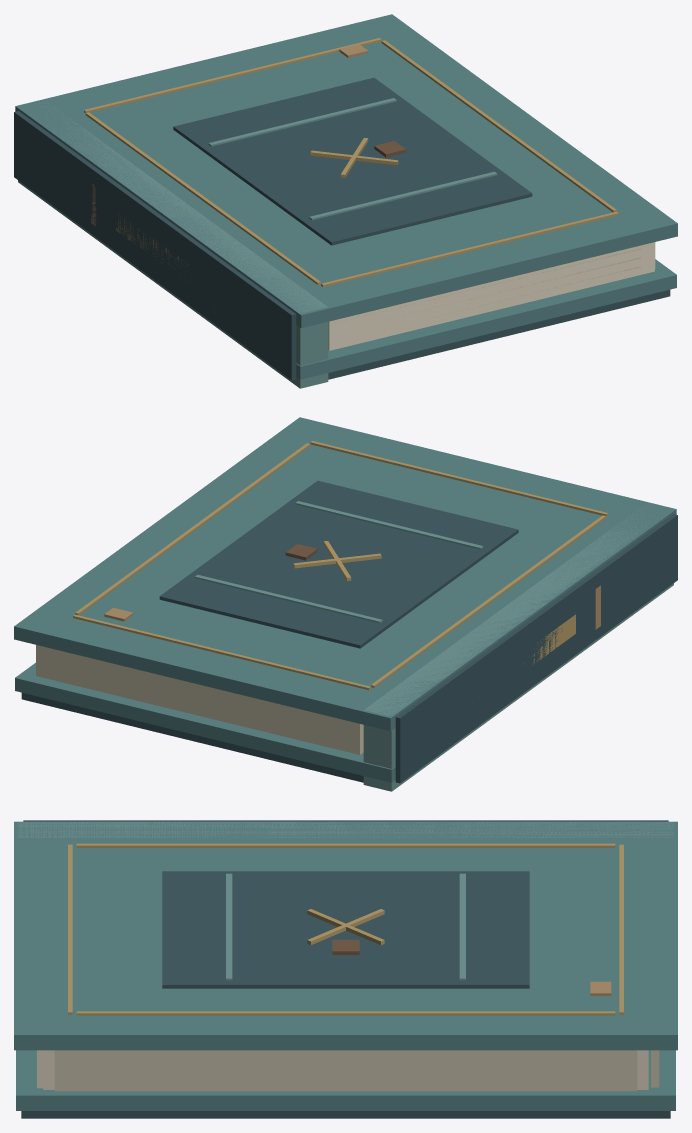
File: Book001.glb
The picture shows the model from 3 angles, top to bottom: view 1: azimuth 30°, elevation 25°; view 2: azimuth 150°, elevation 25°; view 3: azimuth 270°, elevation 25°; orthographic projection. The views are drawn at different scales.
Visible parts, largest first — view 1: Book001; view 2: Book001; view 3: Book001.
Boxes of the visible parts, bbox=[...] form: Book001: bbox=[14, 14, 677, 388]; Book001: bbox=[14, 417, 677, 791]; Book001: bbox=[14, 820, 677, 1118].
Size of the model in its own units: 0.2455 by 0.05 by 0.318.
